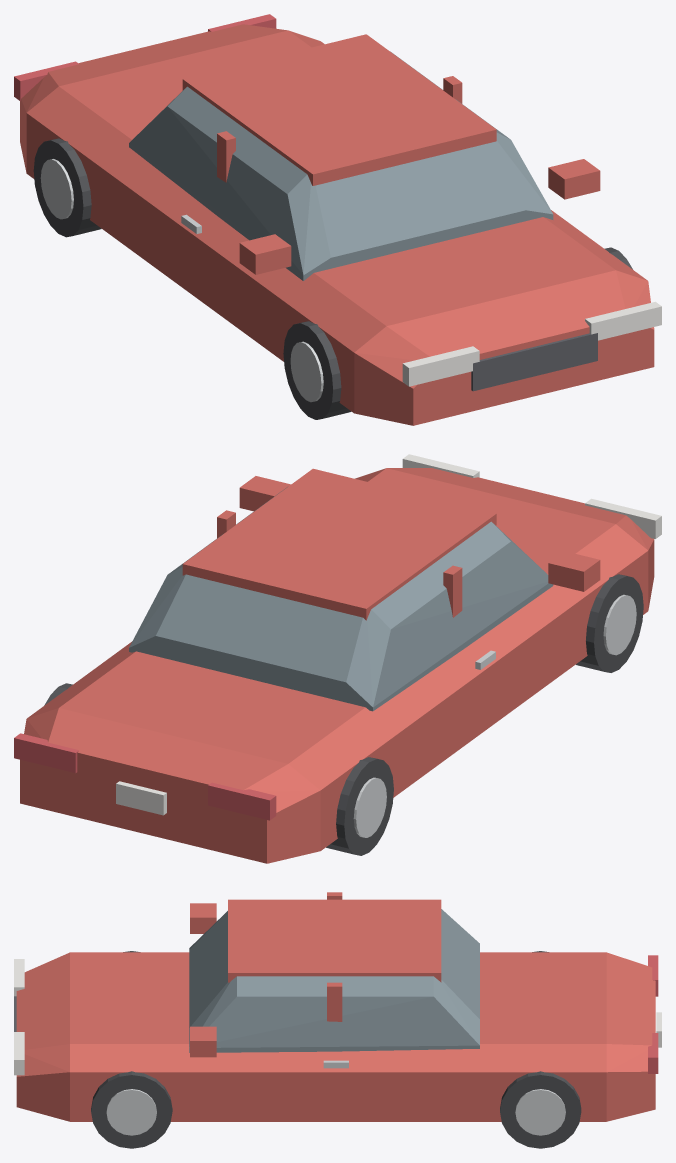
Rendered from 296-gtb-2026.glb.
3 renders of one model, top to bottom at view 1: azimuth 30°, elevation 25°; view 2: azimuth 150°, elevation 25°; view 3: azimuth 270°, elevation 25°, orthographic. The views are drawn at different scales.
Visible parts, largest first — view 1: body, cabin_glass, roof, grille, wheel_-1_1_tire, wheel_-1_-1_tire, headlight_-1, headlight_1, mirror_-1, mirror_1, wheel_-1_1_rim, wheel_-1_-1_rim (+2 smaller); view 2: body, cabin_glass, roof, wheel_-1_1_tire, wheel_-1_-1_tire, taillight_-1, mirror_-1, taillight_1, wheel_-1_1_rim, wheel_-1_-1_rim, rear_plate, mirror_1 (+3 smaller); view 3: body, cabin_glass, roof, wheel_1_-1_tire, wheel_1_1_tire, wheel_1_1_rim, wheel_1_-1_rim, mirror_1, mirror_-1, pillar_1, headlight_1, taillight_1.
Part boxes in pixels (left/top/right/bottom): body: left=20, top=24, right=654, bottom=425; cabin_glass: left=129, top=51, right=553, bottom=280; roof: left=182, top=34, right=496, bottom=185; grille: left=471, top=333, right=597, bottom=391; wheel_-1_1_tire: left=283, top=321, right=351, bottom=419; wheel_-1_-1_tire: left=33, top=138, right=101, bottom=237; headlight_-1: left=402, top=346, right=479, bottom=386; headlight_1: left=585, top=301, right=661, bottom=340; mirror_-1: left=239, top=234, right=291, bottom=274; mirror_1: left=548, top=159, right=600, bottom=199; wheel_-1_1_rim: left=290, top=341, right=323, bottom=402; wheel_-1_-1_rim: left=40, top=159, right=73, bottom=219; body: left=20, top=468, right=654, bottom=863; cabin_glass: left=129, top=487, right=553, bottom=711; roof: left=182, top=468, right=496, bottom=620; wheel_-1_1_tire: left=576, top=574, right=643, bottom=672; wheel_-1_-1_tire: left=326, top=757, right=393, bottom=855; taillight_-1: left=208, top=782, right=276, bottom=820; mirror_-1: left=548, top=551, right=600, bottom=591; taillight_1: left=14, top=733, right=78, bottom=773; wheel_-1_1_rim: left=603, top=594, right=636, bottom=655; wheel_-1_-1_rim: left=353, top=777, right=386, bottom=837; rear_plate: left=116, top=781, right=166, bottom=815; mirror_1: left=239, top=476, right=290, bottom=511; body: left=16, top=952, right=655, bottom=1121; cabin_glass: left=189, top=909, right=479, bottom=1052; roof: left=228, top=899, right=441, bottom=982; wheel_1_-1_tire: left=500, top=1071, right=581, bottom=1148; wheel_1_1_tire: left=91, top=1071, right=172, bottom=1148; wheel_1_1_rim: left=106, top=1089, right=156, bottom=1135; wheel_1_-1_rim: left=515, top=1089, right=565, bottom=1135; mirror_1: left=190, top=1026, right=216, bottom=1057; mirror_-1: left=190, top=903, right=216, bottom=933; pillar_1: left=327, top=982, right=342, bottom=1021; headlight_1: left=14, top=1032, right=24, bottom=1075; taillight_1: left=648, top=1033, right=658, bottom=1073.
Bounding box in the file's own units: 2.32 × 1.18 × 4.62.
